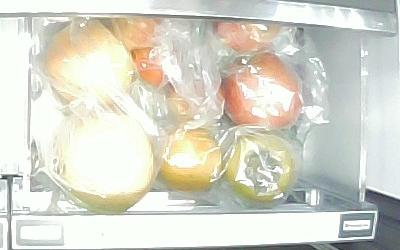apple_vinyl: (220, 52, 303, 129), (212, 18, 290, 52)
grapefruit_vinyl: (52, 111, 155, 213), (45, 21, 134, 109)
persimmon_vinyl: (225, 132, 296, 204), (158, 128, 223, 193)
